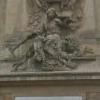Statue: (14, 5, 92, 68)
